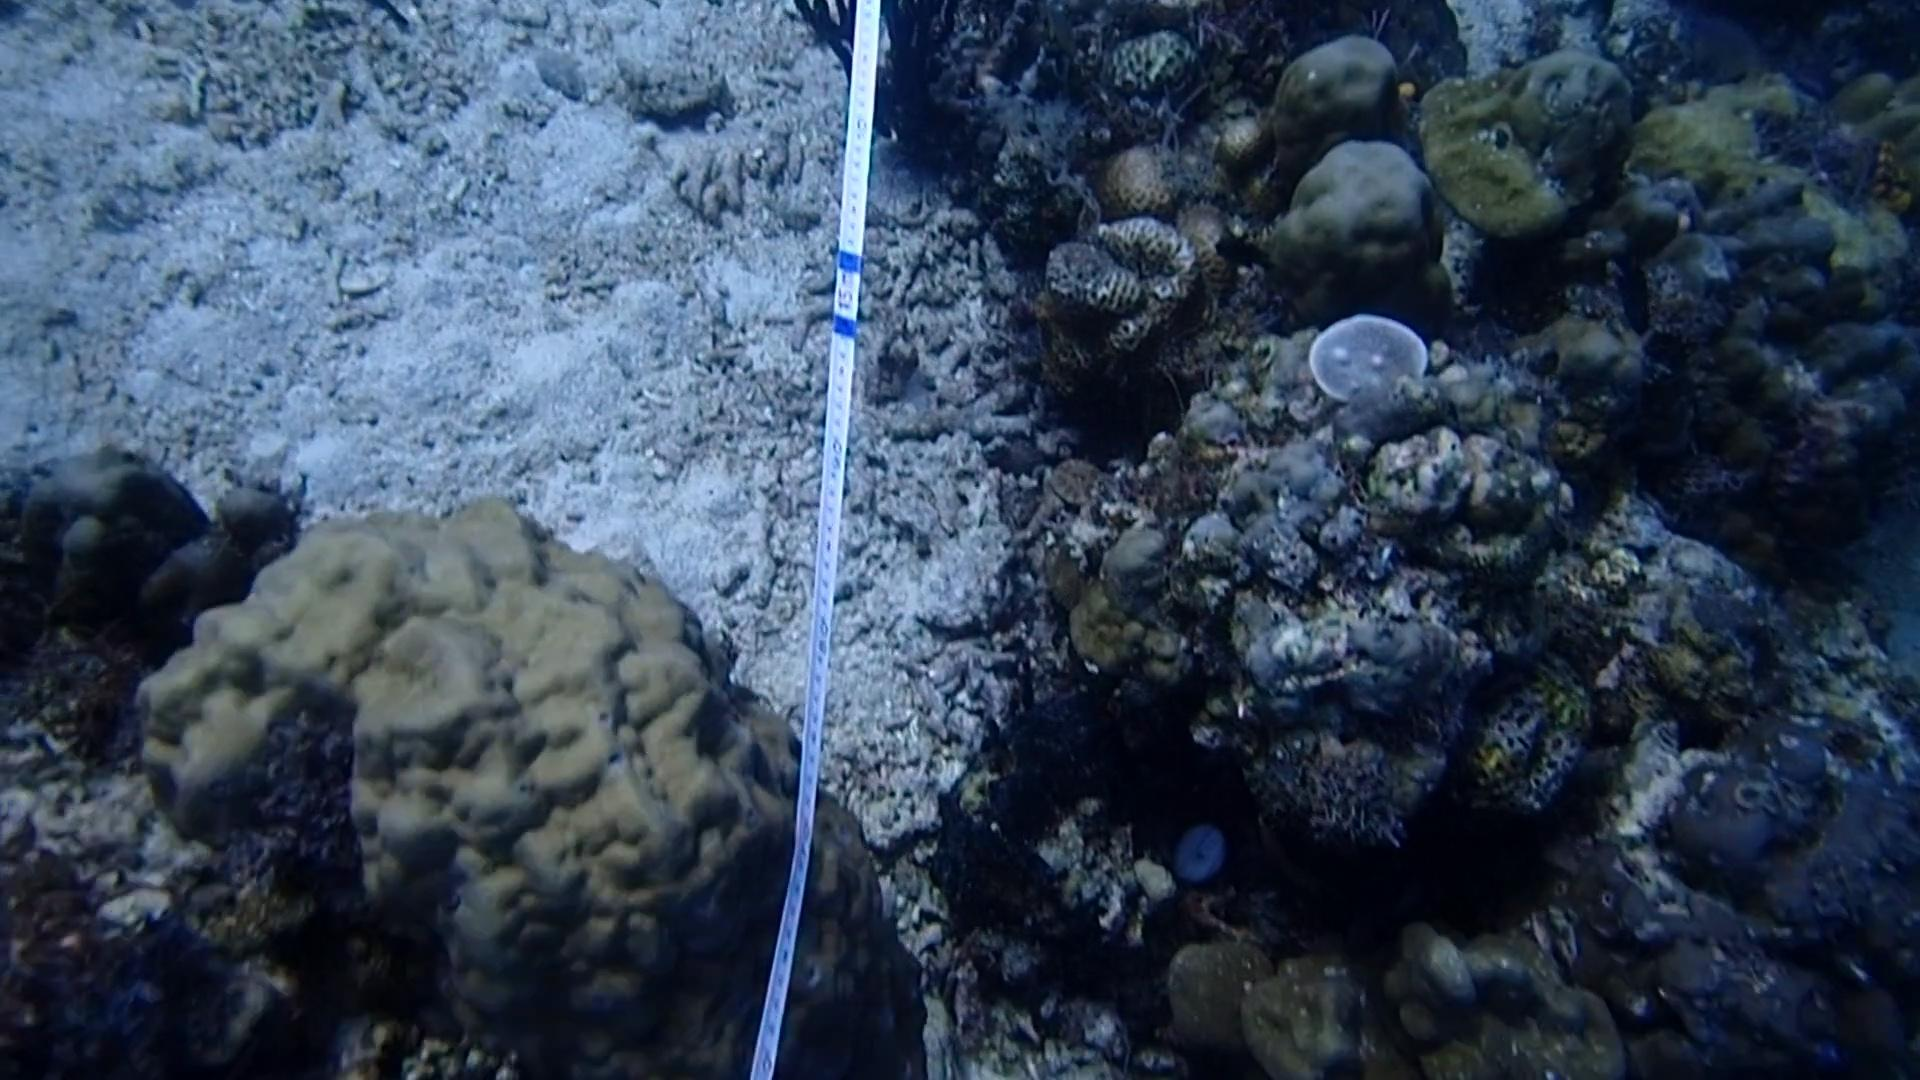Dark Fish: (1193, 220, 1275, 282)
